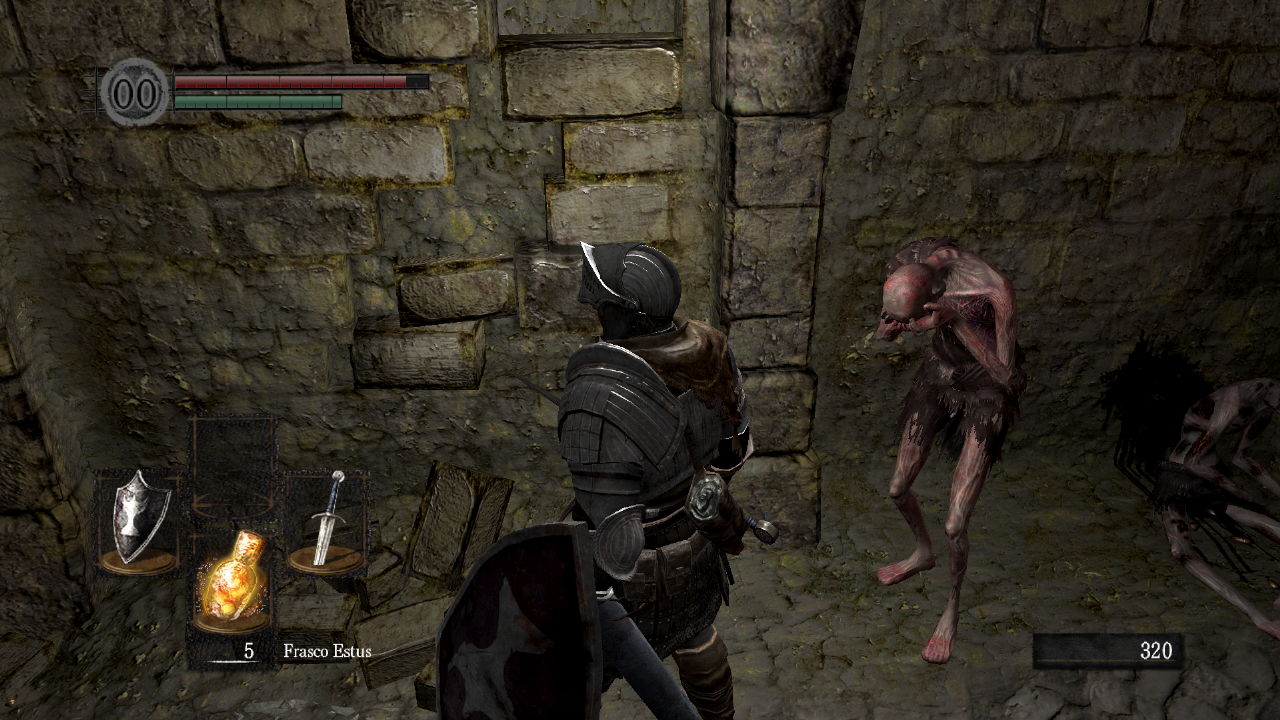health: (173, 75, 430, 89)
hollow: (873, 236, 1029, 664)
humanity: (100, 57, 170, 127)
player: (436, 241, 780, 720)
souls: (1033, 634, 1182, 670)
stamina: (174, 95, 342, 109)
